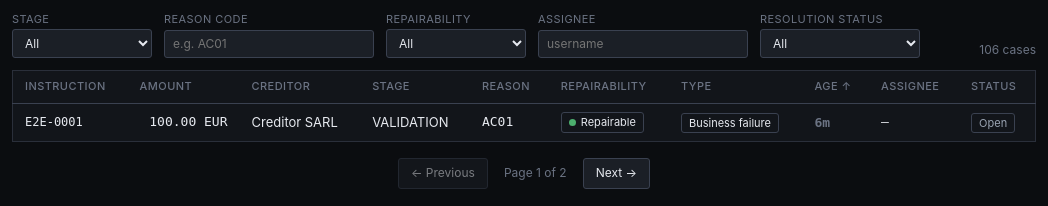
Test: ExceptionQueueScreen › shows pagination controls across multiple pages and lets the operator move between them
Expected: the text "Page 1 of 2" is shown, [504,165,567,182]
Expected: the button "← Previous" is disabled, [398,158,488,189]
Click the button "Next →": (616,174) [583,158,650,189]
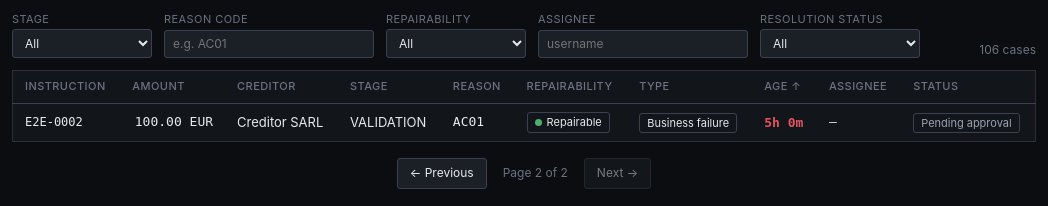
Expected: the text "Page 2 of 2" is shown, [503,165,568,182]
Expected: the button "← Previous" is enabled, [397,158,487,189]
Expected: the button "Next →" is disabled, [584,158,651,189]
